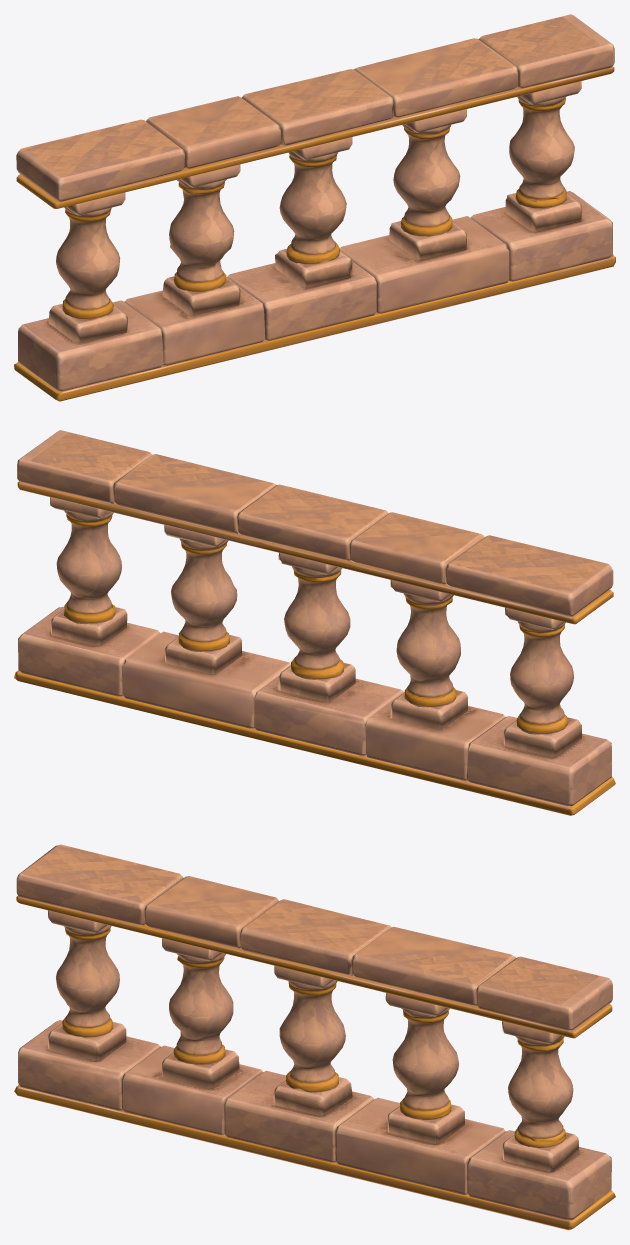
File: balustrade.glb
The picture shows the model from 3 angles, top to bottom: view 1: azimuth 30°, elevation 25°; view 2: azimuth 150°, elevation 25°; view 3: azimuth 330°, elevation 25°; orthographic projection.
Size of the model in its own units: 0.9561 by 0.3633 by 0.1299.
1 material, 1 textured.
